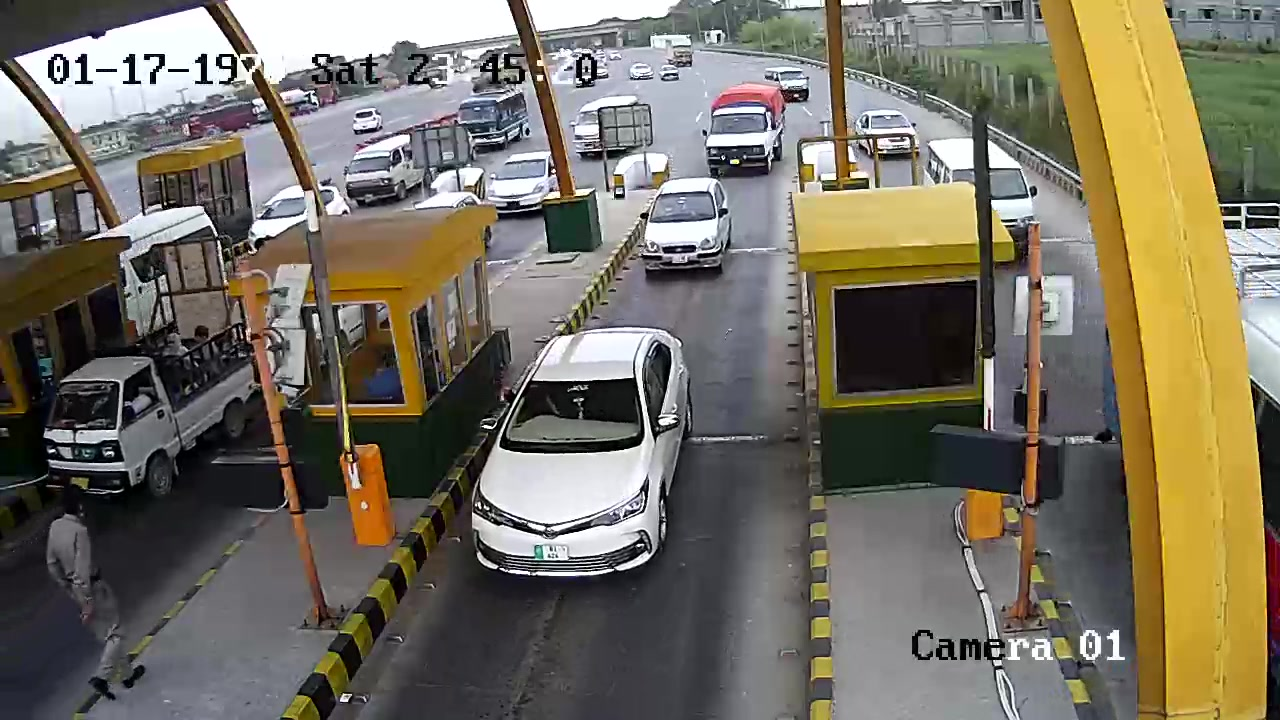F1: (459, 322, 711, 592), (641, 173, 737, 282)
